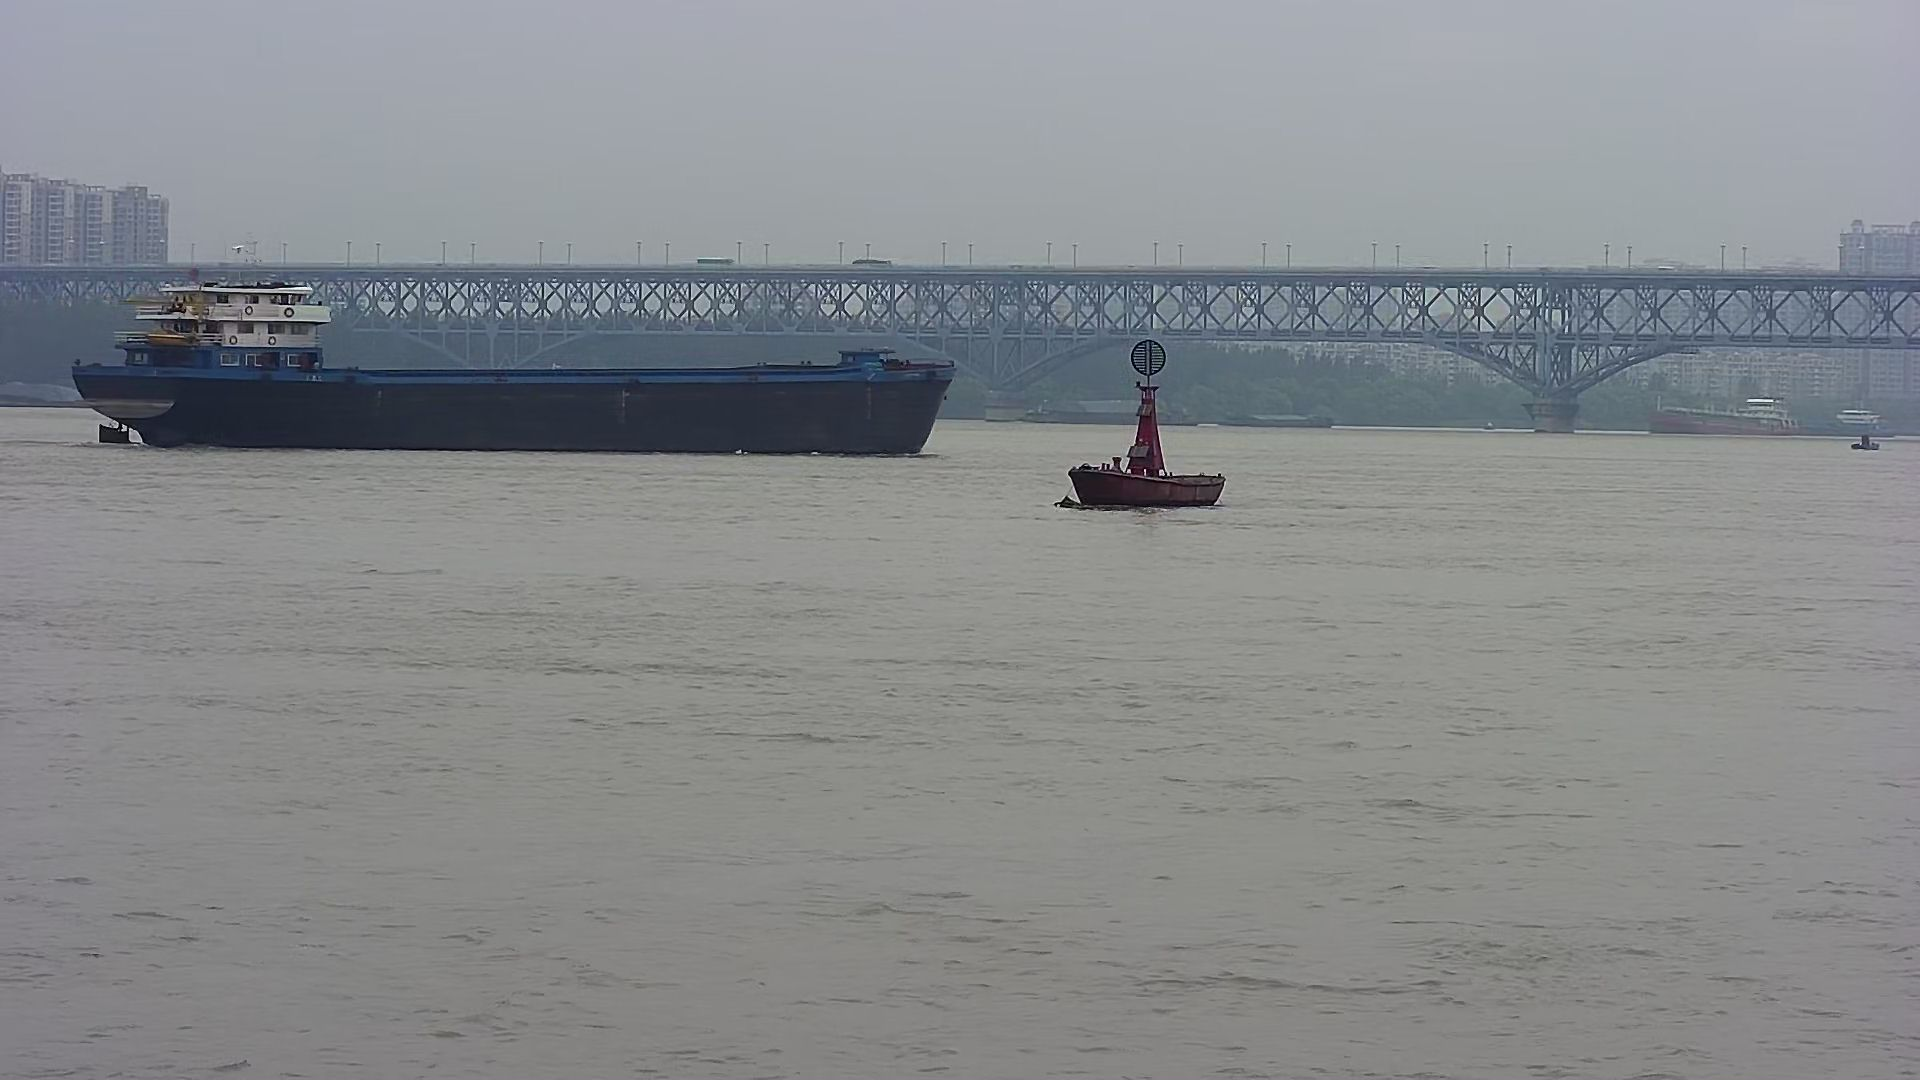boat: (1043, 326, 1238, 513), (1844, 425, 1883, 454)
bridge: (1, 251, 1916, 440)
ship: (55, 255, 967, 464), (1633, 371, 1820, 447), (1215, 404, 1341, 434)
